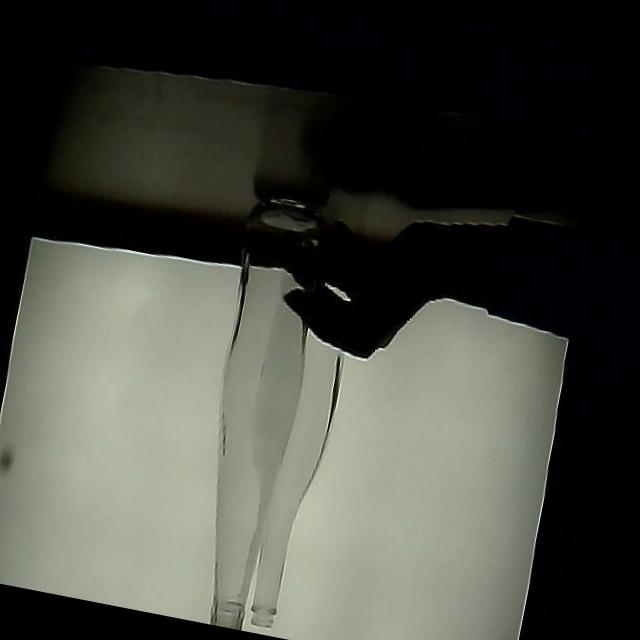BotolKaca: (183, 214, 371, 640)
